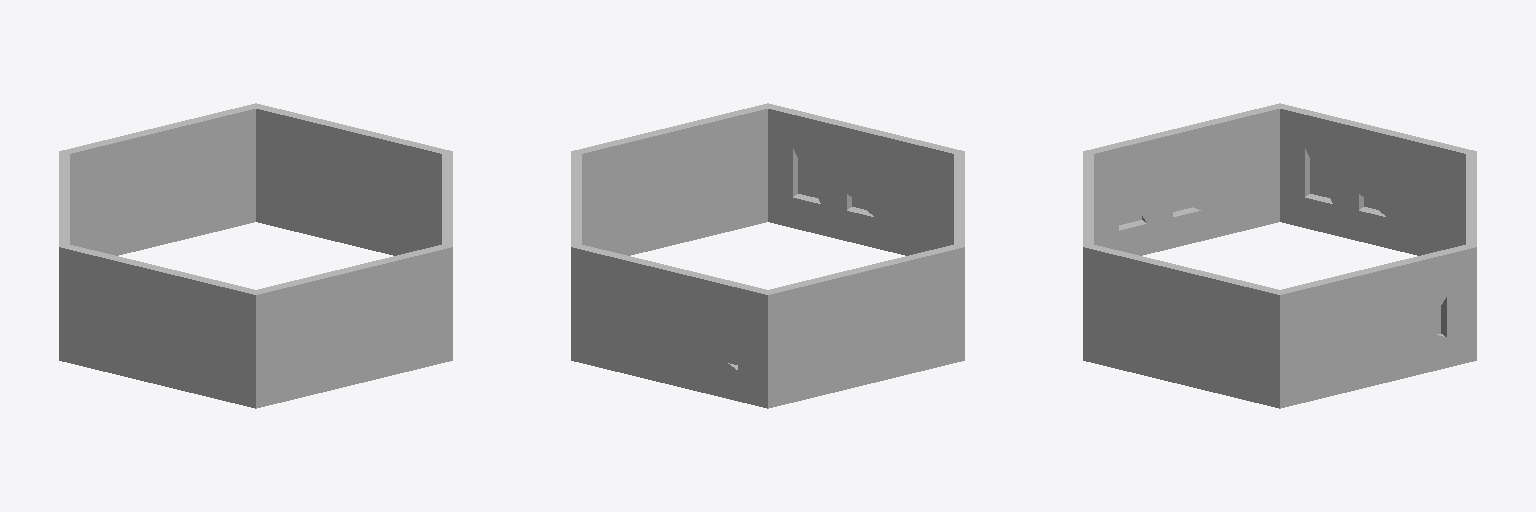
The model's file is hex.obj.
The picture shows the model from 3 angles: view 1: azimuth 30°, elevation 25°; view 2: azimuth 150°, elevation 25°; view 3: azimuth 270°, elevation 25°; orthographic projection.
Parts seen in each view (by area): view 1: pPipe2; view 2: pPipe2; view 3: pPipe2.
Boxes of the visible parts, x1=… form: pPipe2: x1=59, y1=103, x2=452, y2=408; pPipe2: x1=571, y1=103, x2=964, y2=408; pPipe2: x1=1083, y1=103, x2=1476, y2=408.
Bounding box in the file's own units: 18.2 × 5.02 × 15.76.